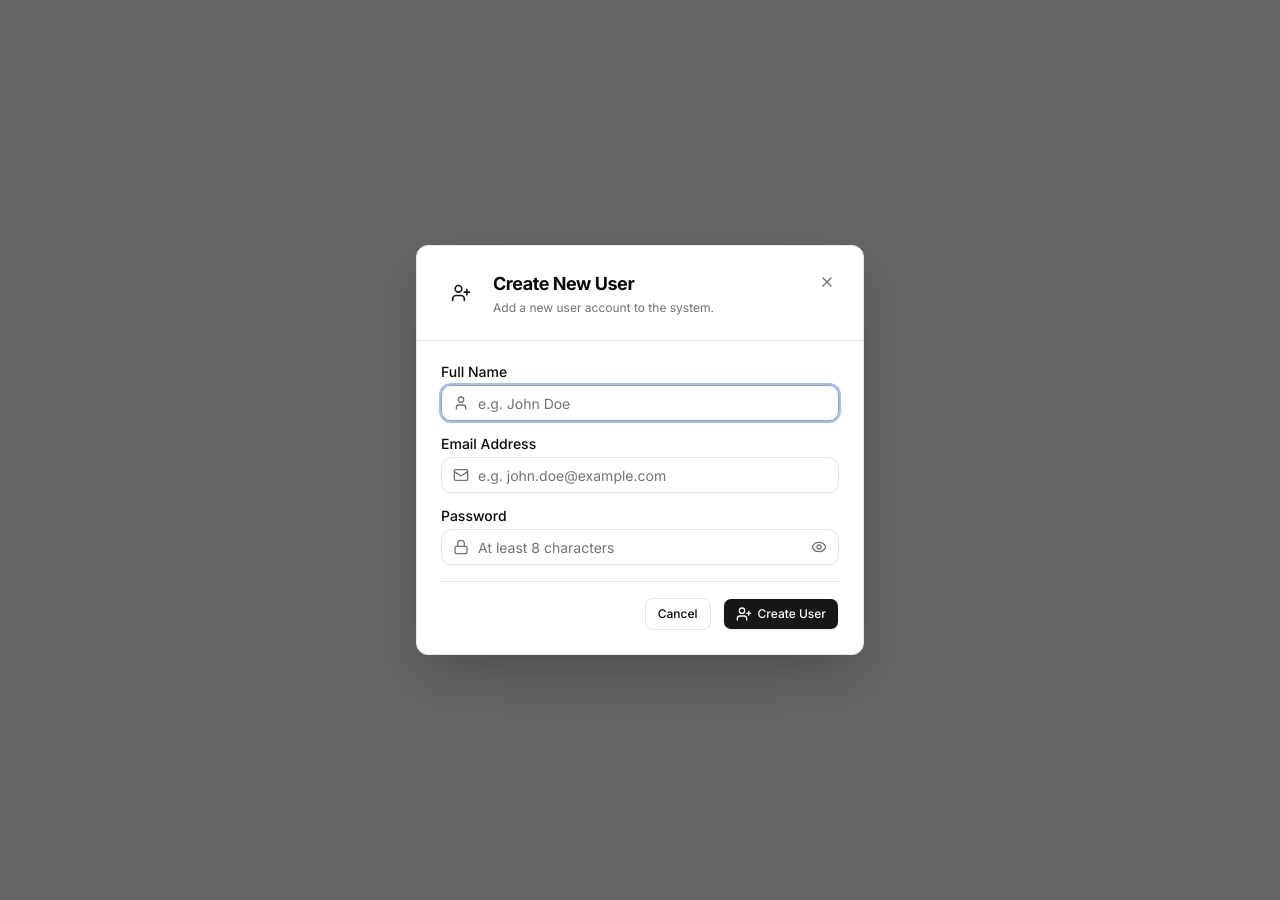
Test: CreateUserModal Component Tests › 2. Form Validation Rules › shows error when email format is invalid
The image size is (1280, 900).
Type "invalid-email-string" into the field labelled "Email Address" at (640, 475), box 441,457 -> 839,493
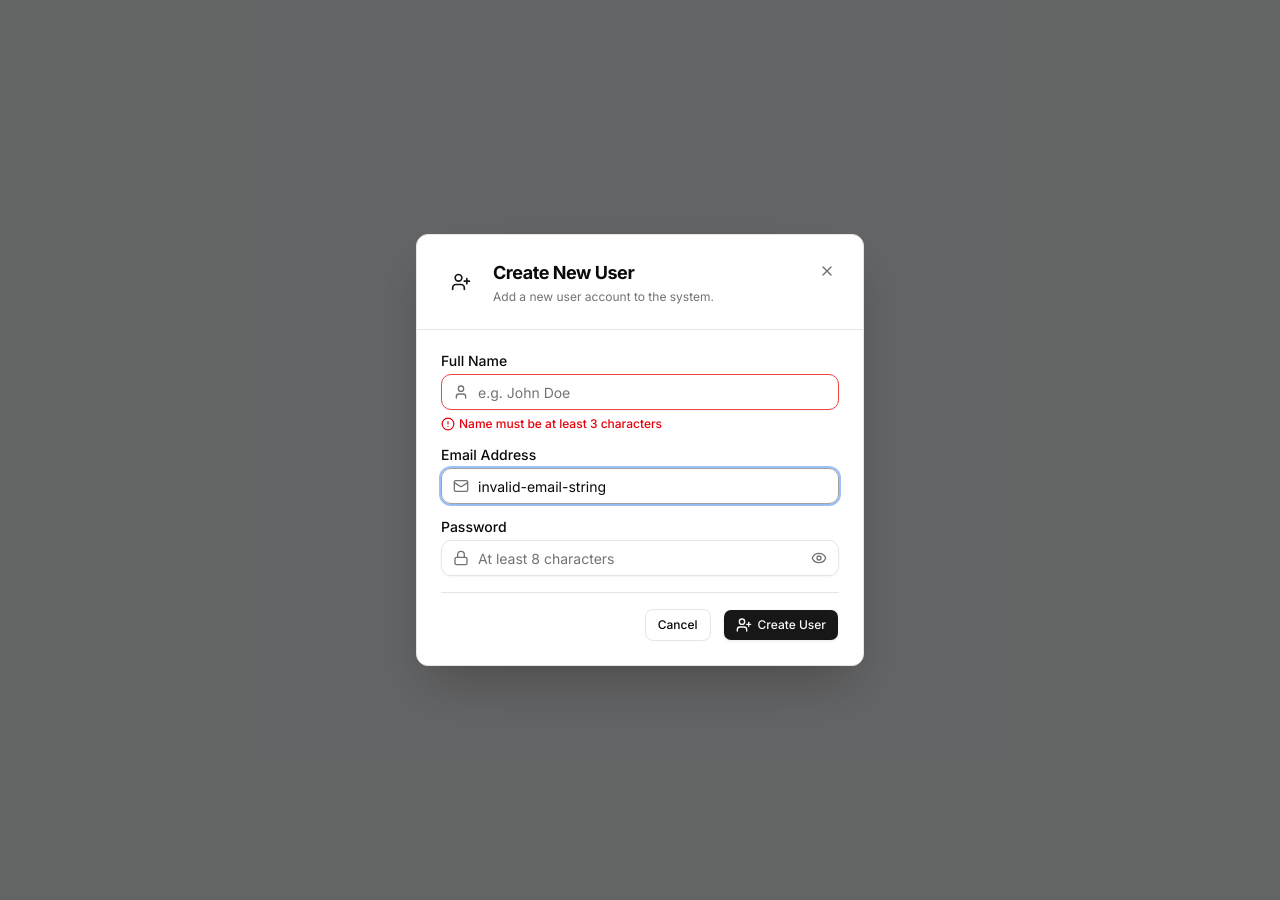
Click the button "Create User" at (781, 625), box 722,609 -> 839,641
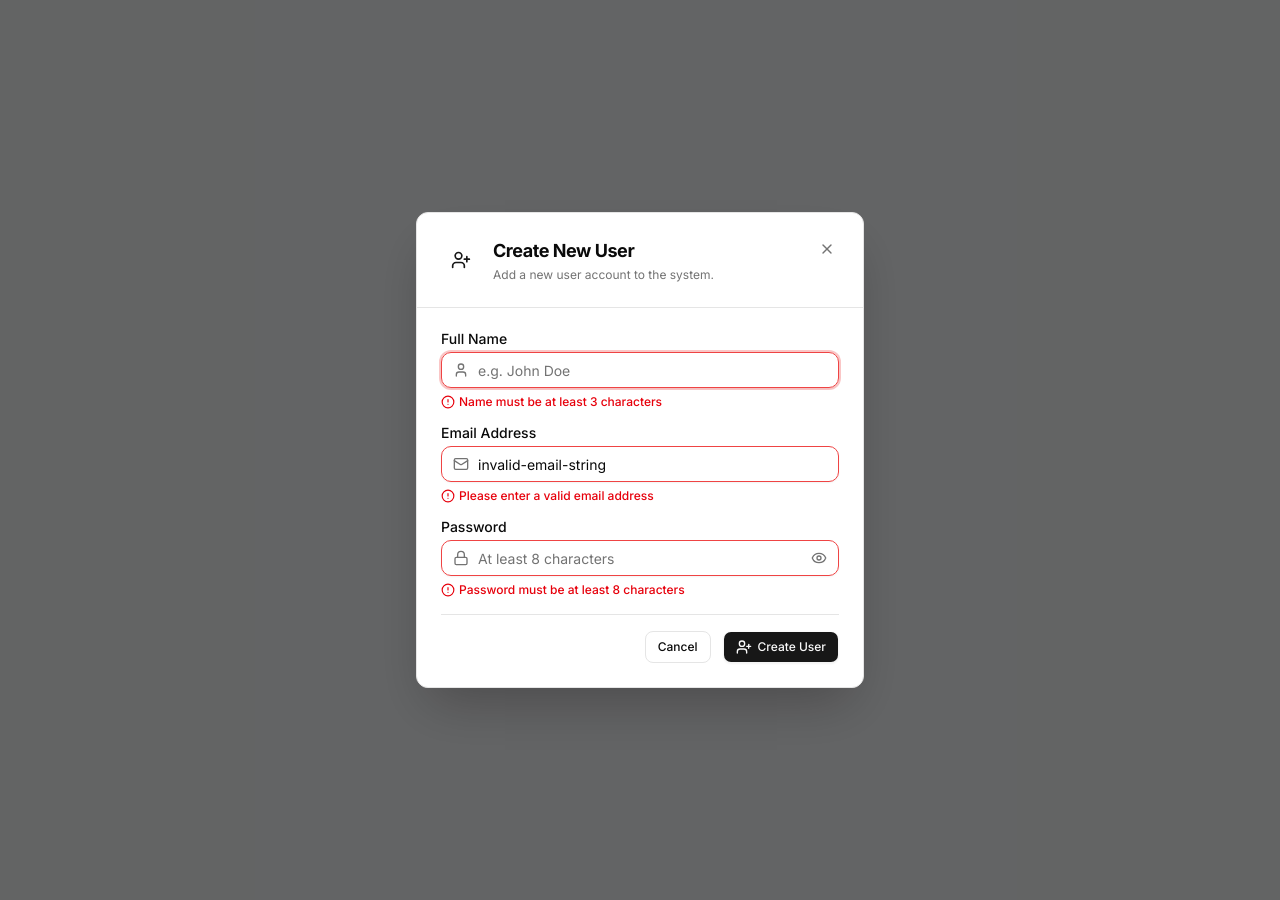
Check: the text "Please enter a valid email address" is shown, box 459,488 -> 654,504
